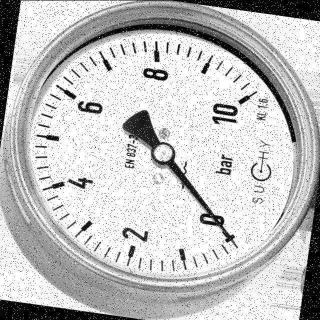gauge: (0, 0, 320, 292), (227, 88, 257, 114), (215, 225, 243, 251), (150, 141, 176, 165), (216, 220, 230, 233)
